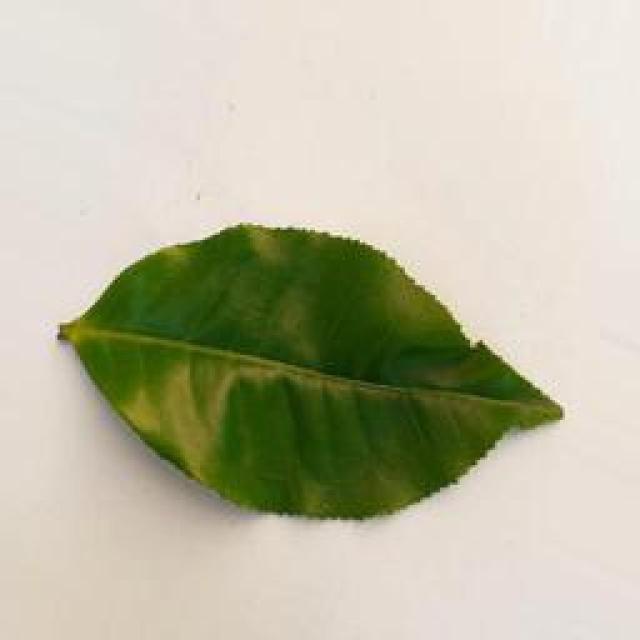Healthy: (52, 216, 568, 534)
